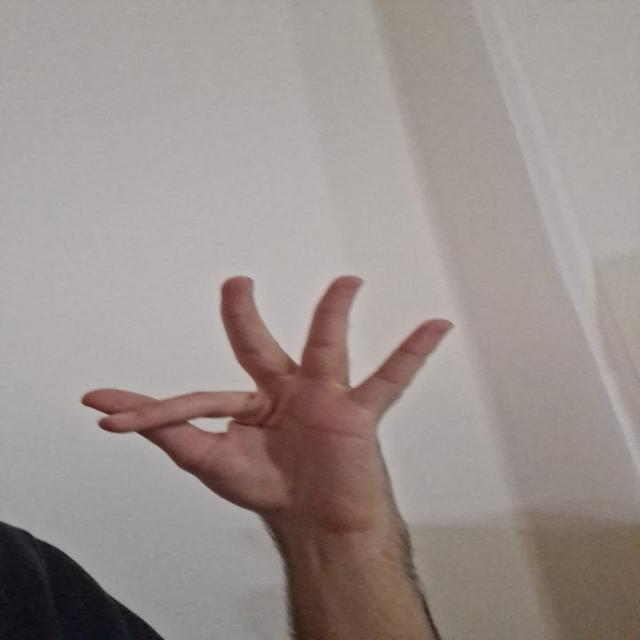F: (77, 260, 462, 510)
